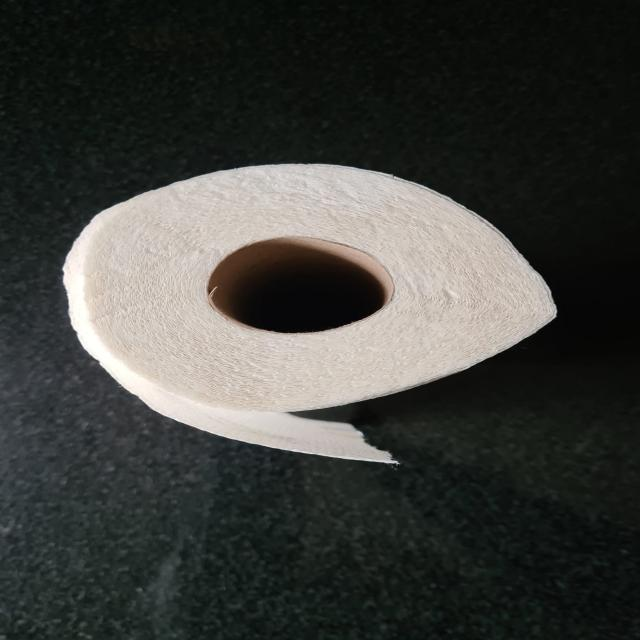kitchen paper: (59, 156, 564, 467), (82, 346, 403, 467)
